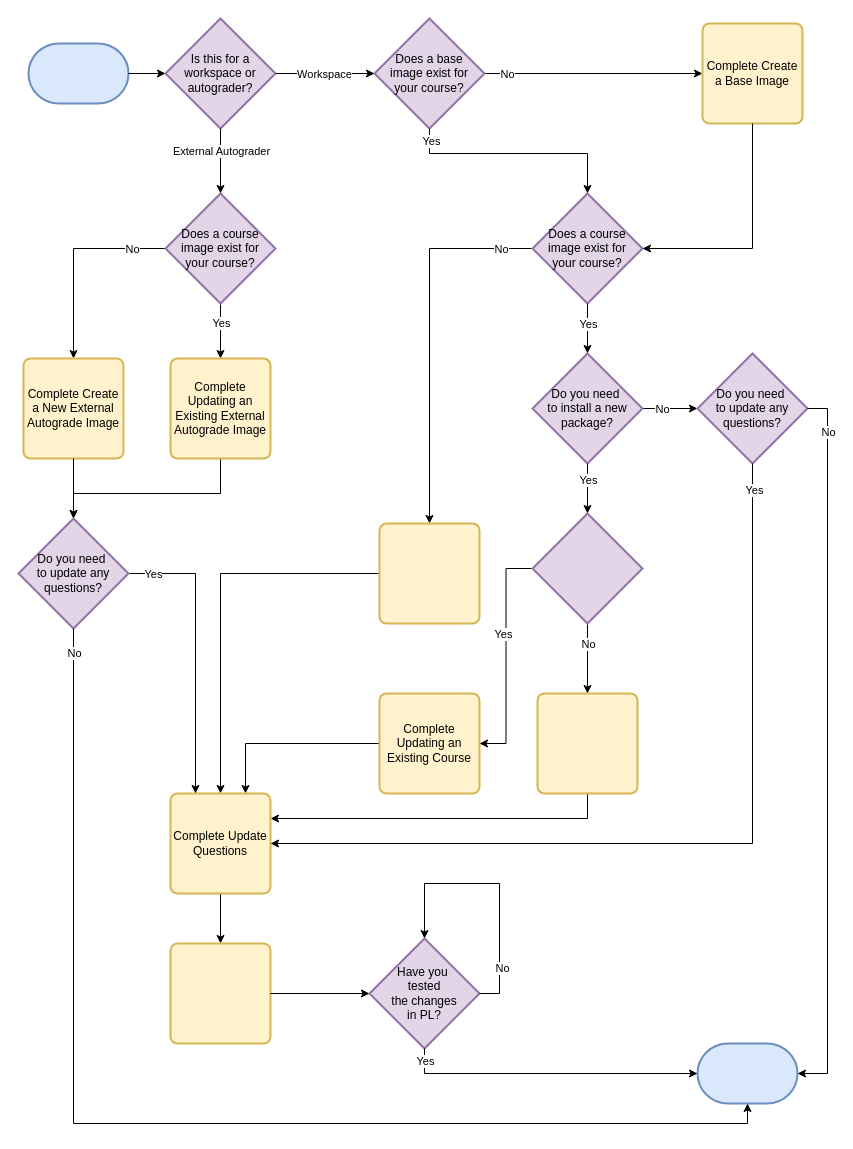
This 853x1149 diagram has some shape labels left out. Here are the shapes that lost their labels. From the top down, the centre of each, then its label:
At point (78, 73): "Start Here".
At point (429, 573): "Complete Create a New Course".
At point (587, 568): "Is this package course specific?".
At point (587, 743): "Complete Updating a Base Image".
At point (220, 993): "Complete Sync to PrairieLearn".
At point (747, 1073): "End".
